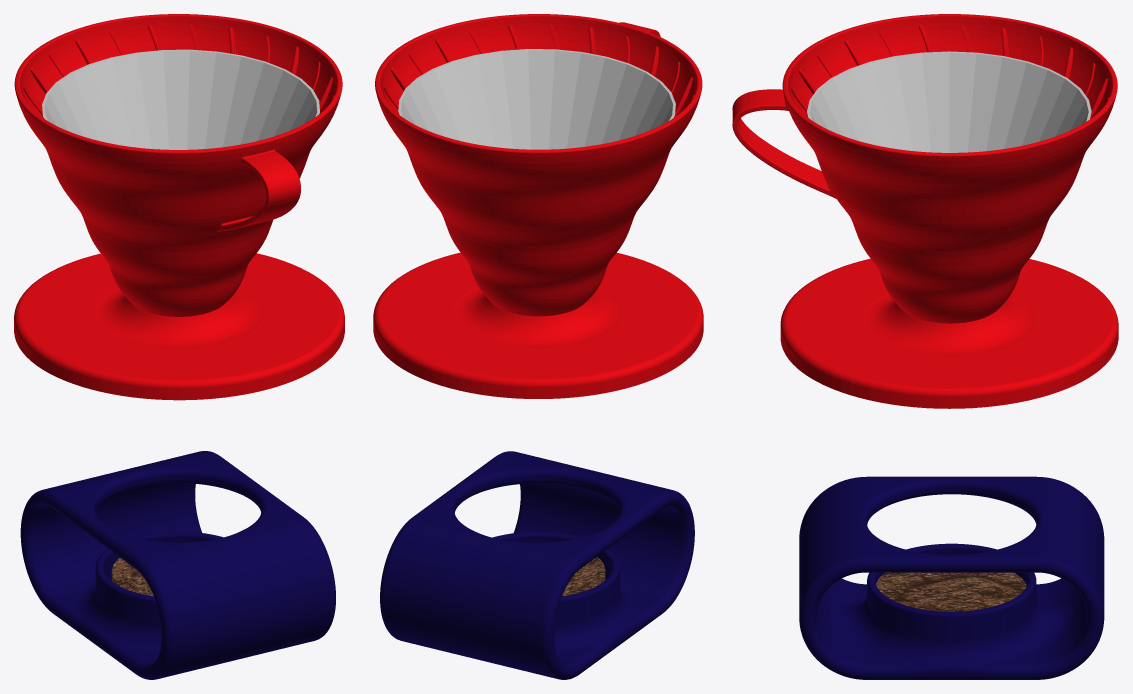
Rendered from v60-dryer-3d.glb.
3 renders of one model, left to right at view 1: azimuth 30°, elevation 25°; view 2: azimuth 150°, elevation 25°; view 3: azimuth 270°, elevation 25°, orthographic. The views are drawn at different scales.
Parts seen in each view (by area): view 1: V60_coffee, v60-dripper.001, Cone, Cylinder; view 2: V60_coffee, v60-dripper.001, Cone, Cylinder; view 3: V60_coffee, v60-dripper.001, Cone, Cylinder.
Boxes of the visible parts, bbox=[...] form: V60_coffee: bbox=[14, 14, 344, 400]; v60-dripper.001: bbox=[20, 451, 335, 679]; Cone: bbox=[42, 49, 319, 149]; Cylinder: bbox=[111, 557, 153, 596]; V60_coffee: bbox=[373, 14, 703, 398]; v60-dripper.001: bbox=[380, 451, 694, 679]; Cone: bbox=[398, 49, 675, 149]; Cylinder: bbox=[562, 557, 605, 596]; V60_coffee: bbox=[732, 14, 1118, 408]; v60-dripper.001: bbox=[799, 476, 1104, 679]; Cone: bbox=[807, 51, 1091, 152]; Cylinder: bbox=[876, 572, 1026, 611].
Bounding box in the file's own units: 0.1031 × 0.187 × 0.1177.
5 materials, 2 textured.
